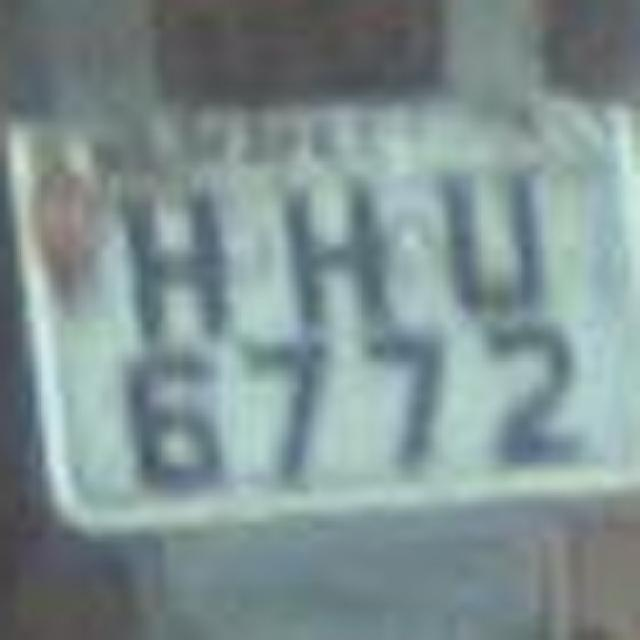2: (452, 320, 600, 500)
6: (96, 316, 229, 492)
7: (216, 324, 352, 488), (332, 324, 460, 491)
H: (120, 160, 240, 348), (276, 168, 396, 344)
U: (424, 156, 568, 344)
